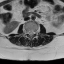CCS_normal: (29, 28, 32, 38)
LFS_normal: (34, 28, 36, 36)
LLS_normal: (32, 28, 34, 37)
RFS_normal: (25, 28, 27, 35)
RLS_normal: (27, 28, 29, 36)
